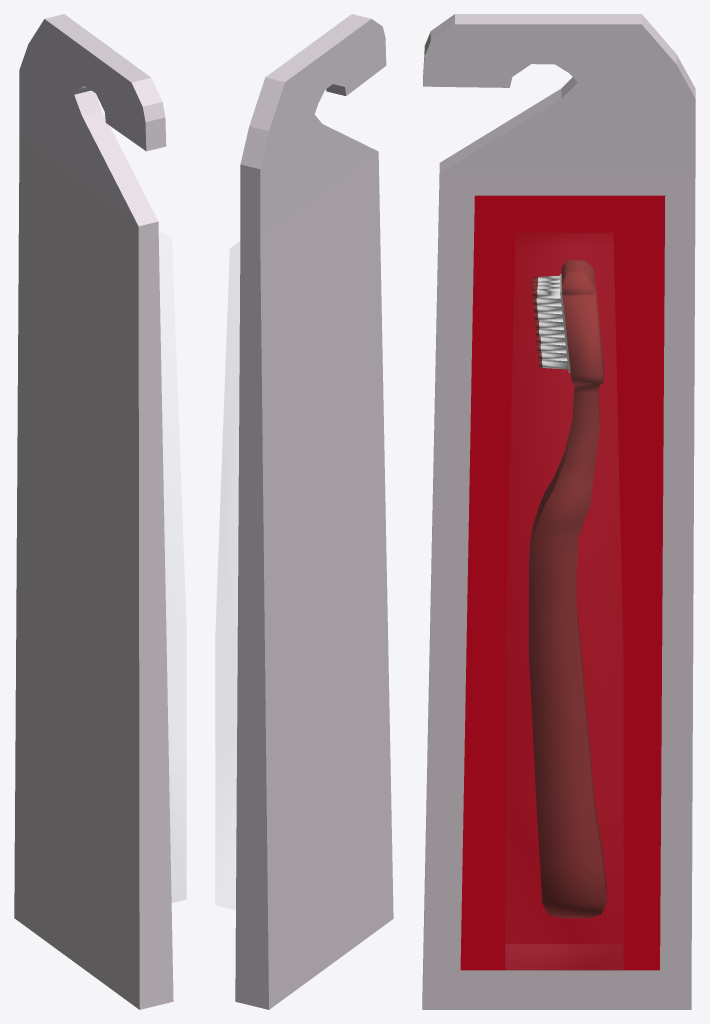
The model's file is cepilloROJO.fbx.
The picture shows the model from 3 angles, left to right: view 1: azimuth 30°, elevation 25°; view 2: azimuth 150°, elevation 25°; view 3: azimuth 270°, elevation 25°; orthographic projection. The views are drawn at different scales.
Parts seen in each view (by area): view 1: tabla.001, envase.001; view 2: tabla.001, envase.001; view 3: tabla.001, cepillo.001, envase.001.
Part boxes in pixels (x1,y1,x2,y2): tabla.001: [14, 14, 173, 1009]; envase.001: [159, 230, 185, 902]; tabla.001: [235, 14, 393, 1009]; envase.001: [216, 242, 239, 909]; tabla.001: [422, 14, 695, 1009]; cepillo.001: [528, 260, 606, 918]; envase.001: [506, 944, 622, 970].
Bounding box in the file's own units: 16.48 × 168 × 42.38.
